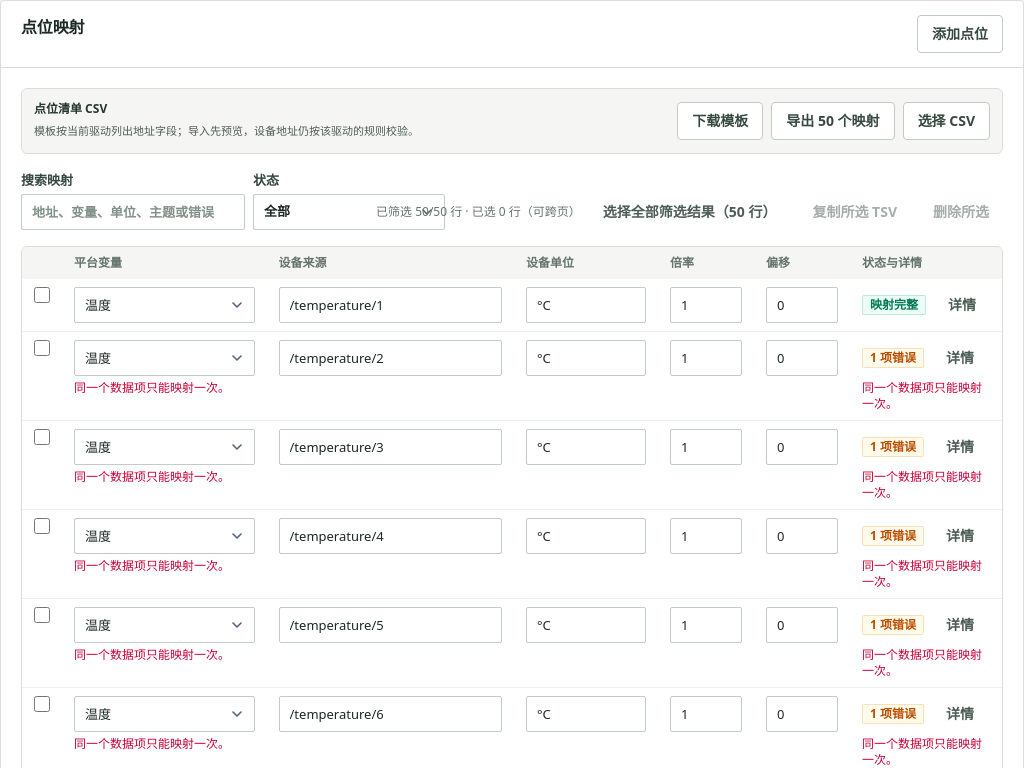
点位映射表分页 › 添加点位时清除筛选并切换到新行所在页
Type "not-there" into the field labelled "搜索映射". click: (133, 212)
box: x1=21 y1=194 x2=245 y2=230
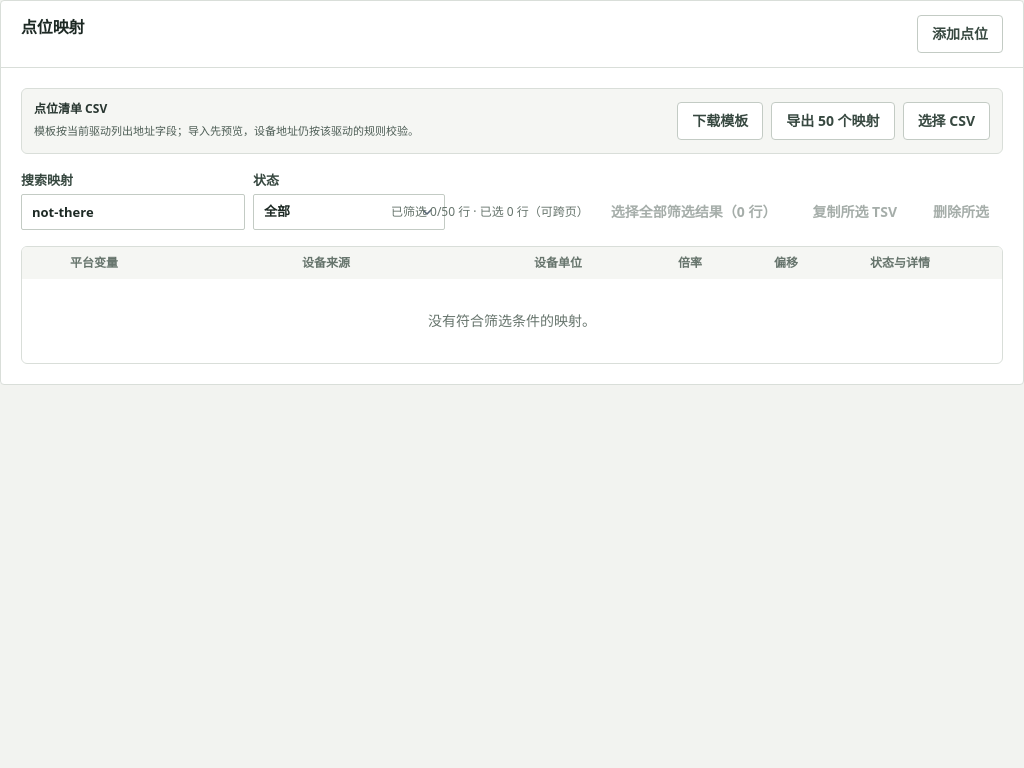
Select "需补全或修正" in the dropdown labelled "状态". click: (349, 212)
box: x1=253 y1=194 x2=445 y2=230
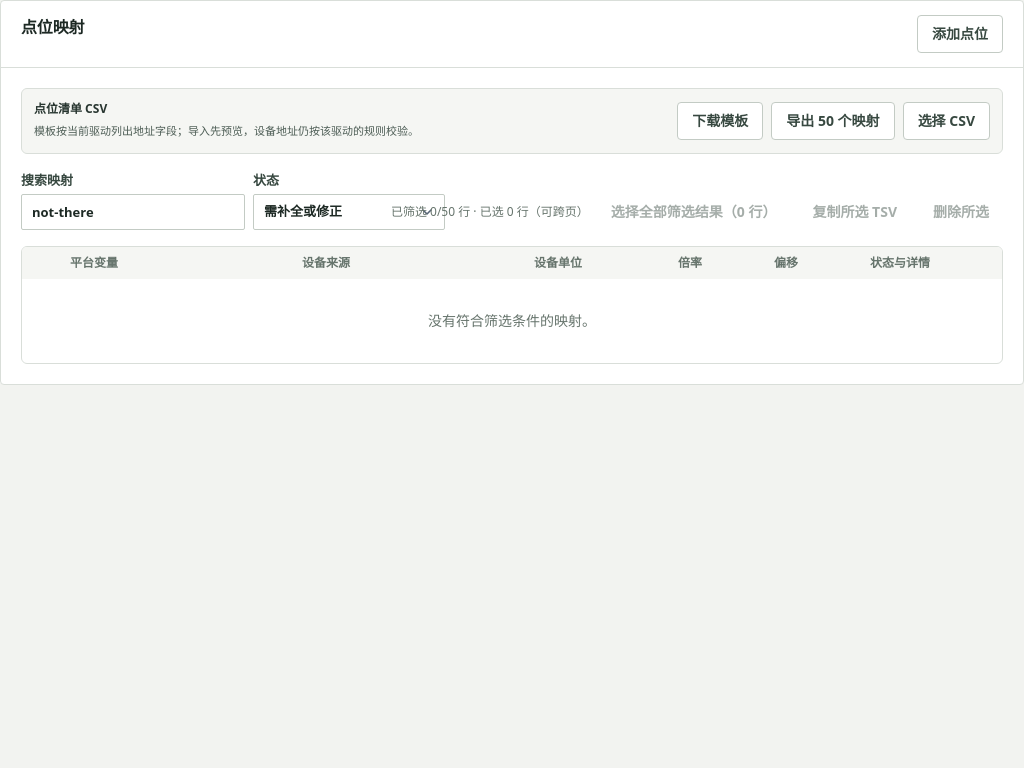
Click the button "添加点位". click: (960, 34)
box: x1=917 y1=15 x2=1003 y2=53
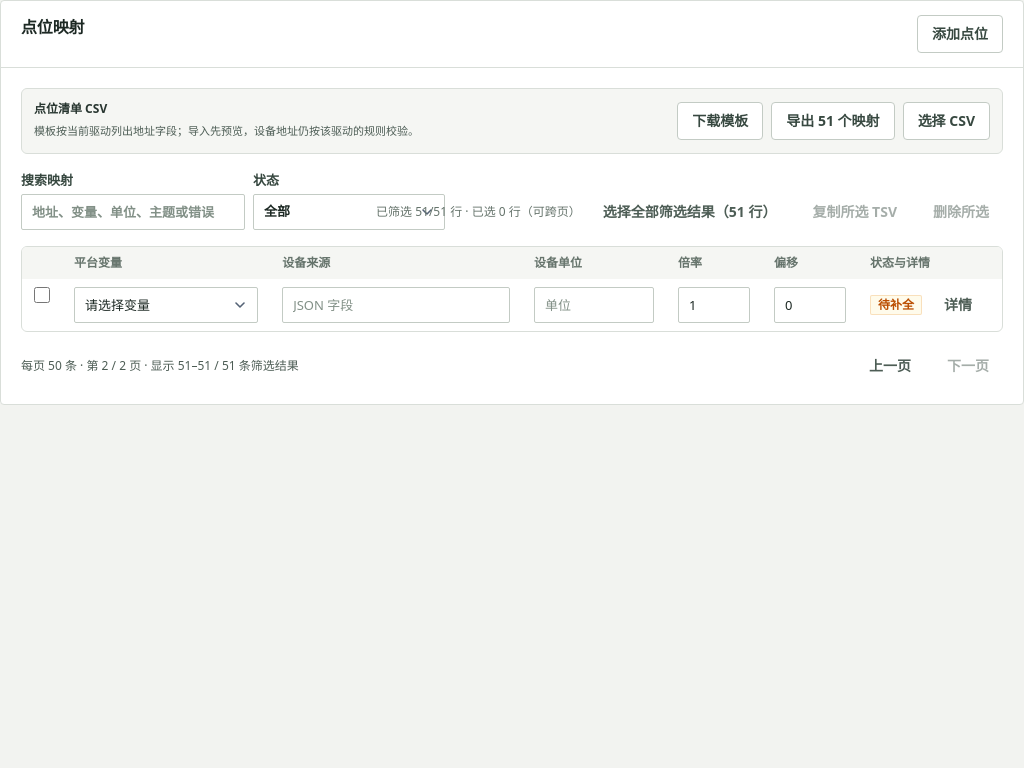
expect the checkbox named "选择第 51 行" is shown: met, box x1=34 y1=287 x2=50 y2=303
expect the field labelled "搜索映射" is empty: met, box x1=21 y1=194 x2=245 y2=230
expect the text "每页 50 条 · 第 2 / 2 页 · 显示 51–51 / 51 条筛选结果" is shown: met, box x1=21 y1=358 x2=299 y2=374
